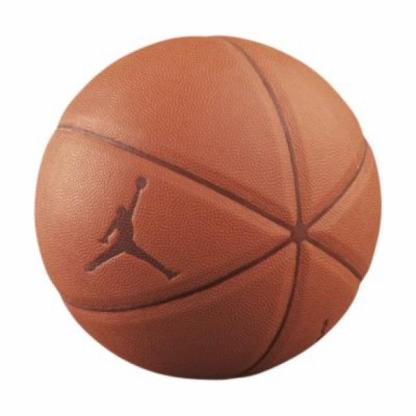basketball: (33, 36, 384, 383)
